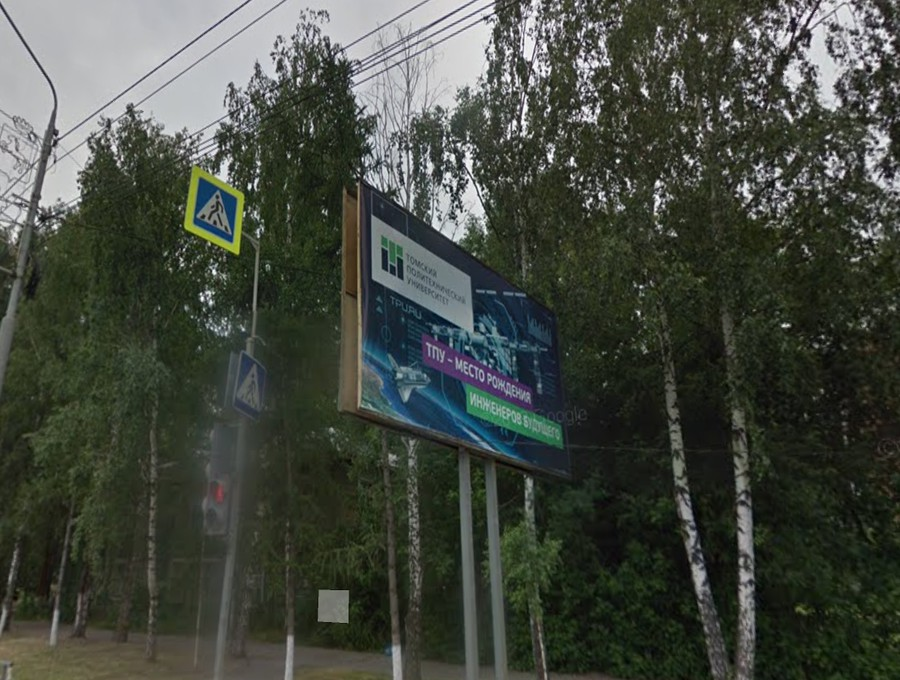Traffic Light-red: (203, 470, 232, 540)
